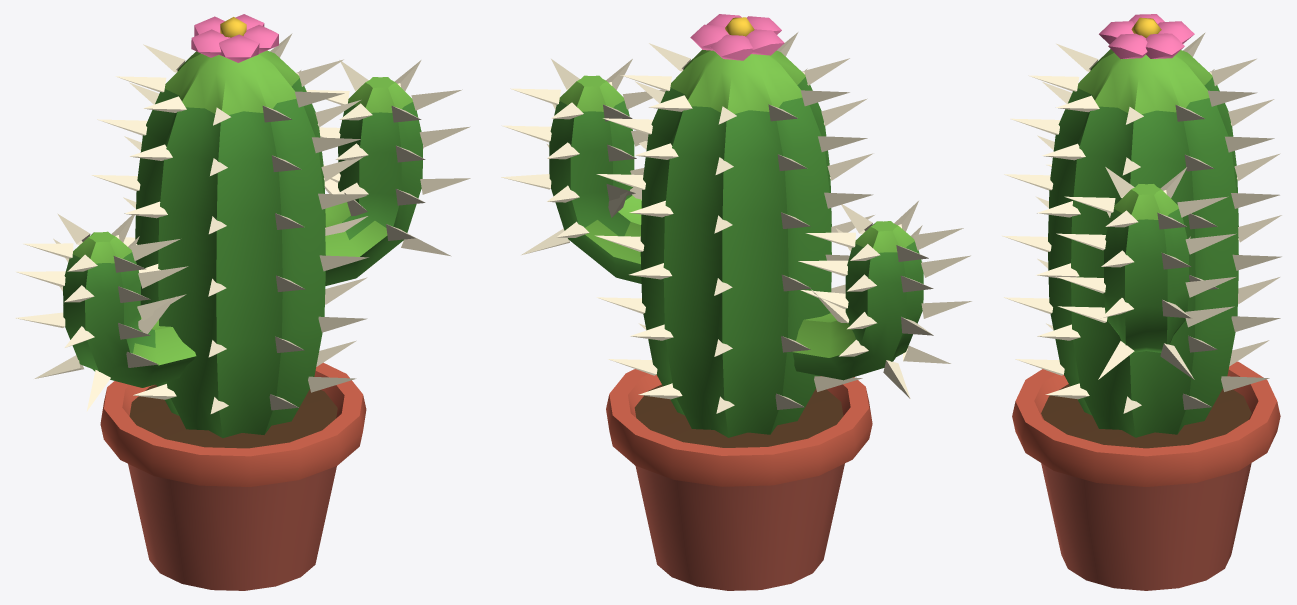
Rendered from Cactus.fbx.
3 renders of one model, left to right at view 1: azimuth 30°, elevation 25°; view 2: azimuth 150°, elevation 25°; view 3: azimuth 270°, elevation 25°, orthographic.
Parts seen in each view (by area): view 1: Cactus; view 2: Cactus; view 3: Cactus.
Part boxes in pixels (left/top/right/bottom): Cactus: left=15, top=14, right=470, bottom=590; Cactus: left=501, top=14, right=971, bottom=590; Cactus: left=1001, top=14, right=1281, bottom=590.
Size of the model in its own units: 1.44 by 1.74 by 0.8279.
